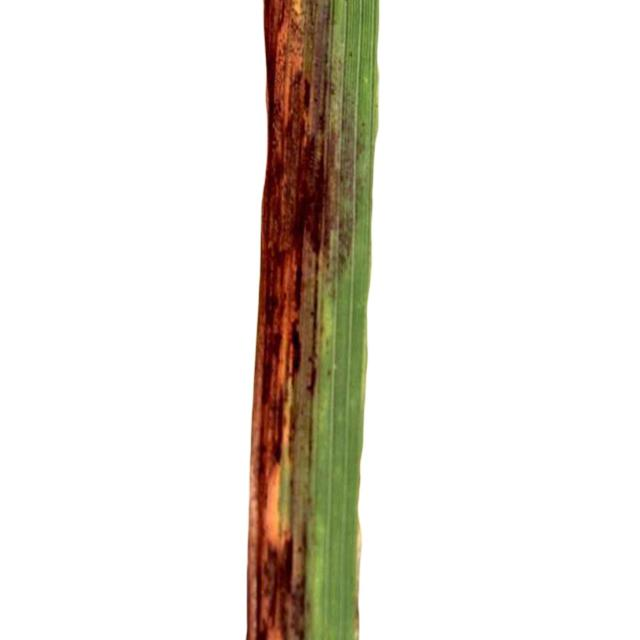Leaf scald: (196, 0, 486, 640)
